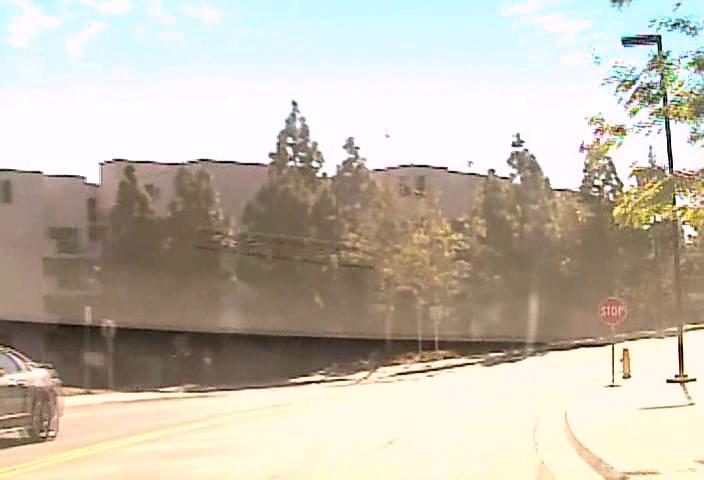stop: (598, 297, 627, 325)
